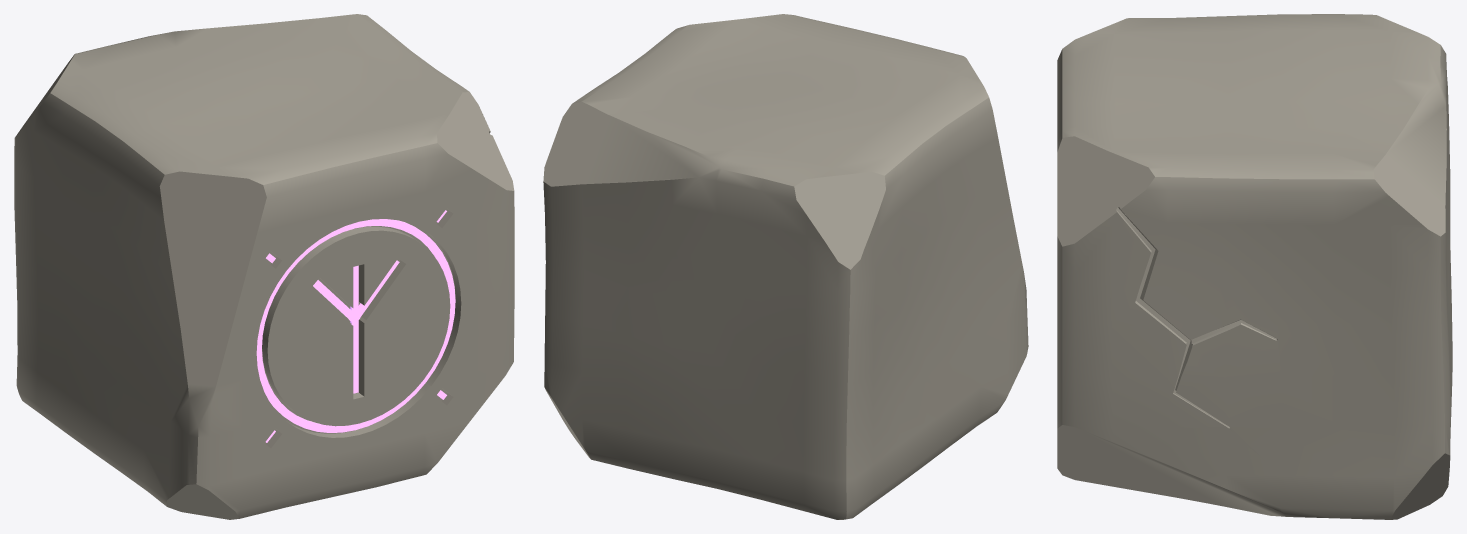
The model's file is part_stone_block.glb.
The picture shows the model from 3 angles, left to right: view 1: azimuth 30°, elevation 25°; view 2: azimuth 150°, elevation 25°; view 3: azimuth 270°, elevation 25°; orthographic projection. The views are drawn at different scales.
Visible parts, largest first — view 1: StoneBlock; view 2: StoneBlock; view 3: StoneBlock.
Part boxes in pixels (x1,y1,x2,y2): StoneBlock: (14,14,514,519); StoneBlock: (543,14,1028,519); StoneBlock: (1057,14,1452,519).
Bounding box in the file's own units: 1 × 1 × 1.
